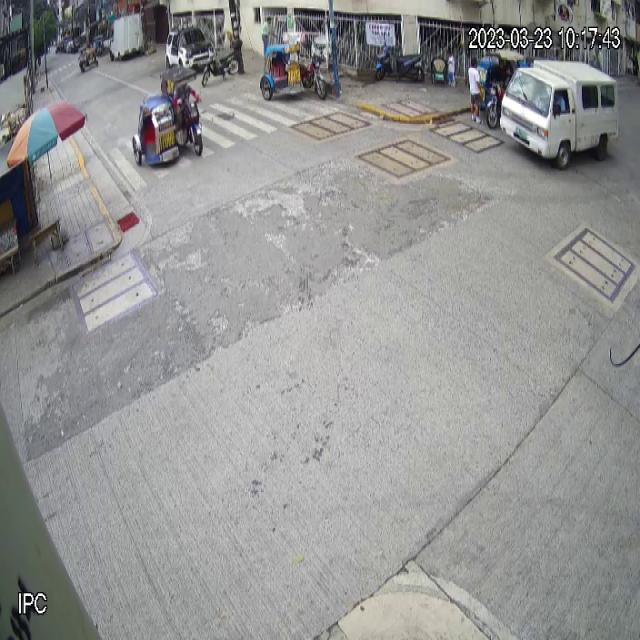Tricycle: (132, 67, 203, 167), (260, 30, 326, 104)
Van: (500, 58, 619, 170)
